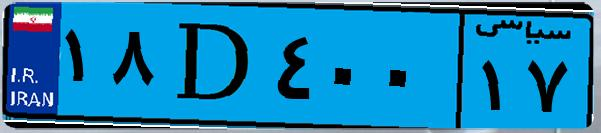0: (385, 28, 445, 110), (330, 28, 385, 110)
1: (57, 26, 110, 100), (475, 38, 525, 113)
4: (270, 28, 330, 110)
7: (525, 38, 570, 115)
8: (110, 28, 158, 98)
D: (158, 12, 270, 120)
